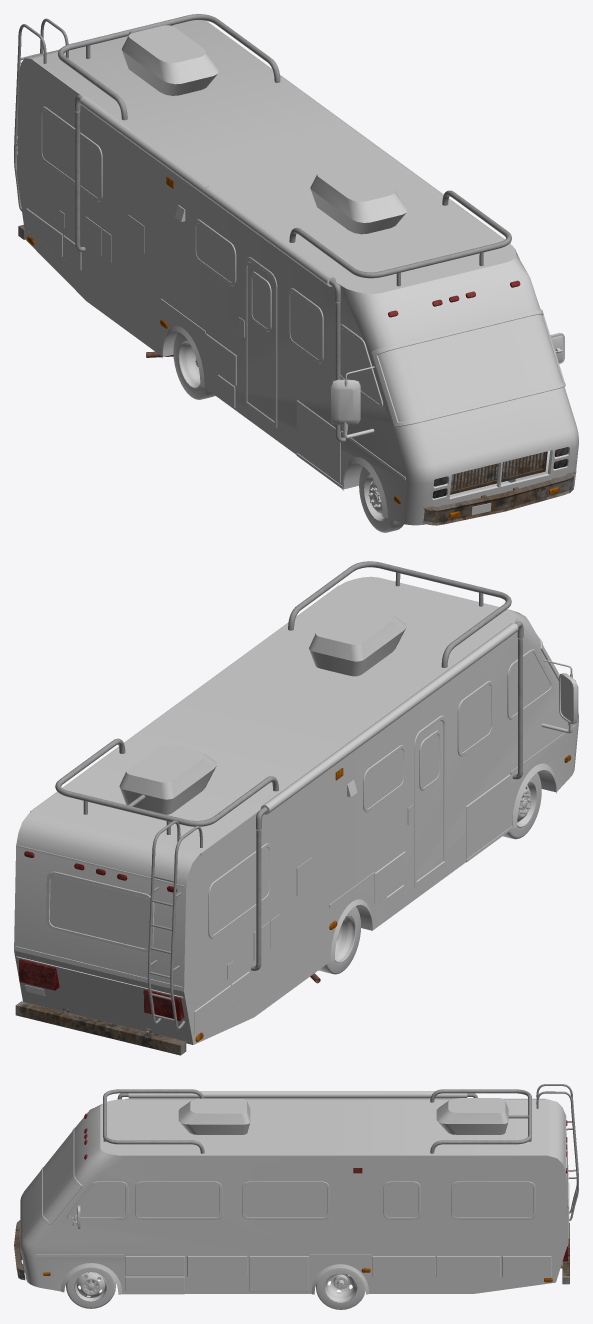
3 renders of one model, top to bottom at view 1: azimuth 30°, elevation 25°; view 2: azimuth 150°, elevation 25°; view 3: azimuth 270°, elevation 25°, orthographic. The views are drawn at different scales.
Visible parts, largest first — view 1: MainBody, Windows, SidePannelDetail, RoofBoxes, ChromePipes, Bumpers+Radiator, Tarp, FrontWheels, Mirrors, RearLights; view 2: MainBody, SidePannelDetail, Windows, RoofBoxes, ChromePipes, Tarp, Bumpers+Radiator, FrontWheels, RearLights, Mirrors; view 3: MainBody, SidePannelDetail, Windows, RoofBoxes, ChromePipes, FrontWheels, Tarp, Bumpers+Radiator, RearLights.
Part boxes in pixels (x1,y1,x2,y2): MainBody: [16, 20, 578, 525]; Windows: [42, 110, 562, 422]; SidePannelDetail: [26, 20, 565, 517]; RoofBoxes: [121, 25, 407, 234]; ChromePipes: [14, 14, 511, 442]; Bumpers+Radiator: [18, 224, 576, 525]; Tarp: [79, 96, 335, 286]; FrontWheels: [173, 332, 403, 532]; Mirrors: [331, 332, 564, 438]; RearLights: [27, 176, 568, 518]; MainBody: [14, 576, 578, 1044]; SidePannelDetail: [15, 585, 575, 1033]; Windows: [49, 653, 550, 948]; RoofBoxes: [119, 606, 406, 814]; ChromePipes: [55, 561, 523, 1029]; Tarp: [260, 623, 518, 814]; Bumpers+Radiator: [15, 1001, 186, 1055]; FrontWheels: [318, 773, 541, 974]; RearLights: [19, 755, 571, 1041]; Mirrors: [541, 659, 578, 733]; MainBody: [20, 1099, 568, 1293]; SidePannelDetail: [36, 1098, 569, 1294]; Windows: [42, 1132, 567, 1220]; RoofBoxes: [178, 1098, 508, 1134]; ChromePipes: [103, 1084, 578, 1220]; FrontWheels: [66, 1267, 365, 1309]; Tarp: [128, 1091, 467, 1098]; Bumpers+Radiator: [14, 1220, 569, 1284]; RearLights: [16, 1113, 568, 1282].
Size of the model in its own units: 250 by 274 by 783.
